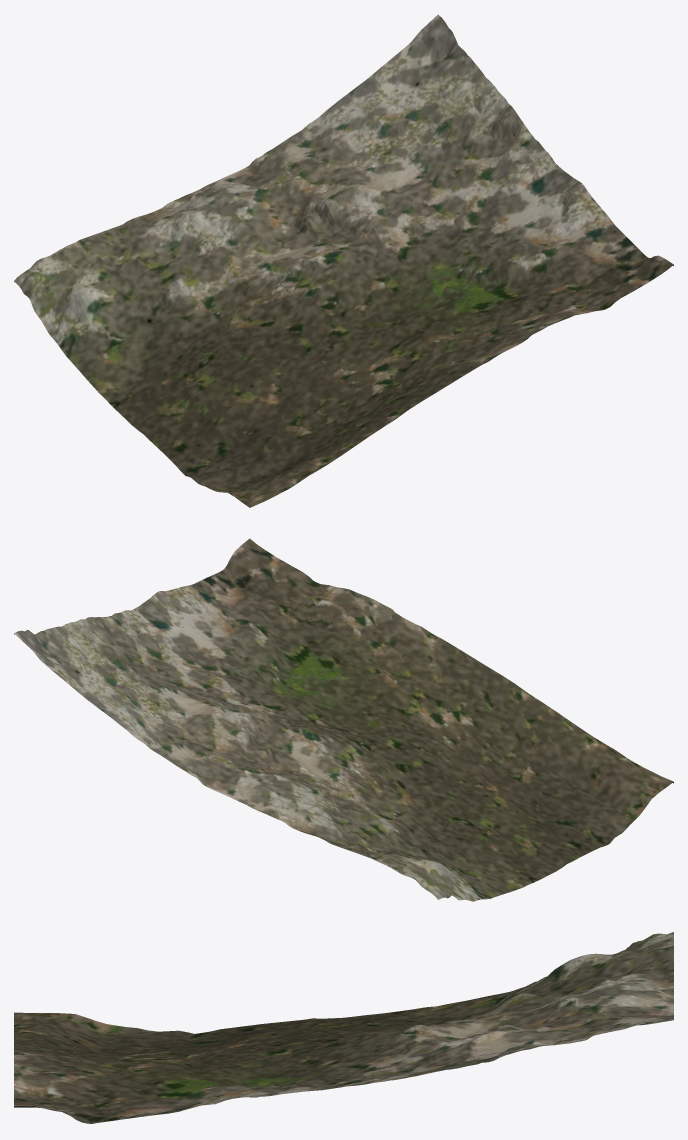
3 views of the same model, one above another, from view 1: azimuth 30°, elevation 25°; view 2: azimuth 150°, elevation 25°; view 3: azimuth 270°, elevation 25° (orthographic). The views are drawn at different scales.
Bounding box in the file's own units: 250 × 132 × 241.
Materials: 1 (1 with a texture image).
